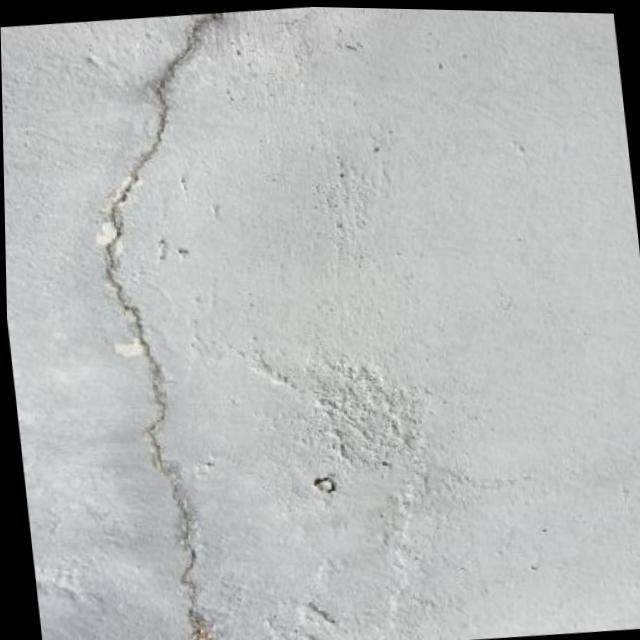Crack: (96, 30, 215, 634)
